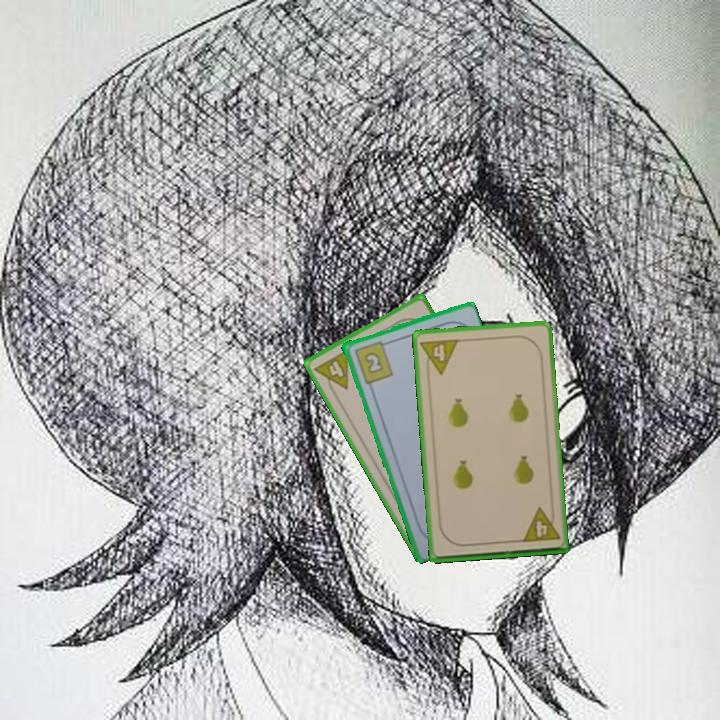2b: (350, 337, 396, 386)
4p: (311, 346, 351, 399), (417, 335, 461, 378), (518, 504, 563, 545)
